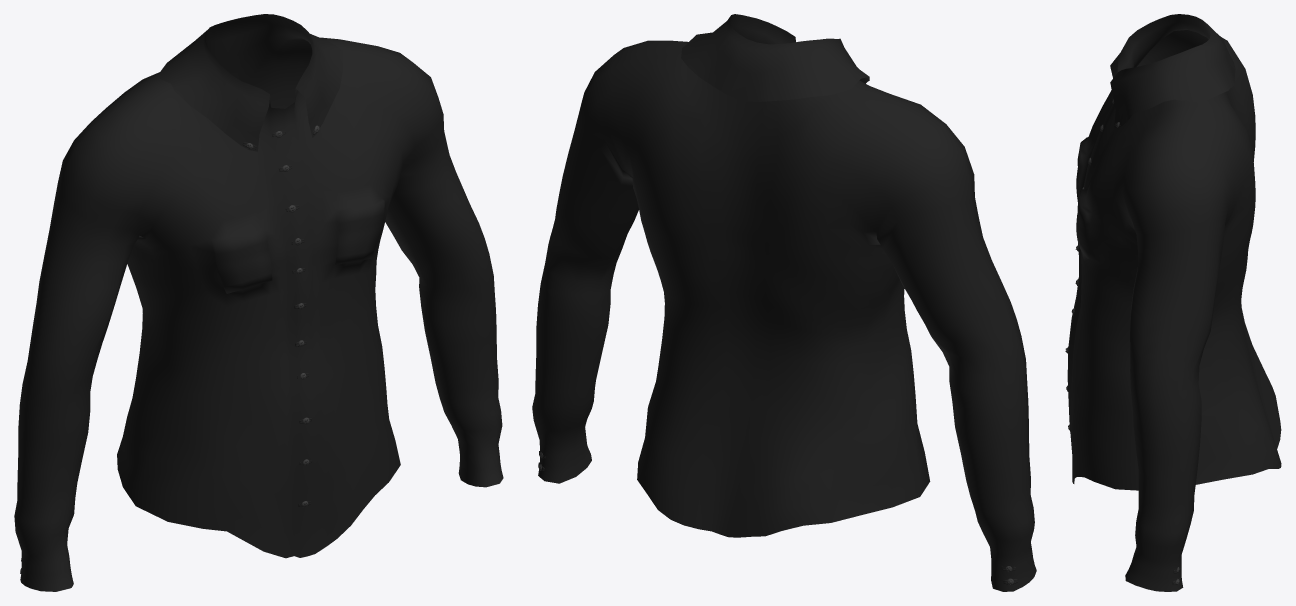
Rendered from elvs-male-shirt-untucked-bd1.glb.
3 views of the same model, side by side, from view 1: azimuth 30°, elevation 25°; view 2: azimuth 150°, elevation 25°; view 3: azimuth 270°, elevation 25° (orthographic). The views are drawn at different scales.
Parts seen in each view (by area): view 1: Human.elvs_male_shirt_untucked_bd1; view 2: Human.elvs_male_shirt_untucked_bd1; view 3: Human.elvs_male_shirt_untucked_bd1.
Part boxes in pixels (left/top/right/bottom): Human.elvs_male_shirt_untucked_bd1: left=14, top=14, right=503, bottom=591; Human.elvs_male_shirt_untucked_bd1: left=532, top=14, right=1036, bottom=591; Human.elvs_male_shirt_untucked_bd1: left=1065, top=14, right=1281, bottom=591.
Size of the model in its own units: 0.7267 by 0.7173 by 0.3073.
1 material, 1 textured.
